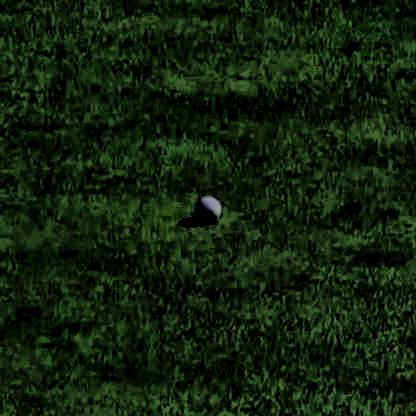golfball: (194, 189, 219, 219)
